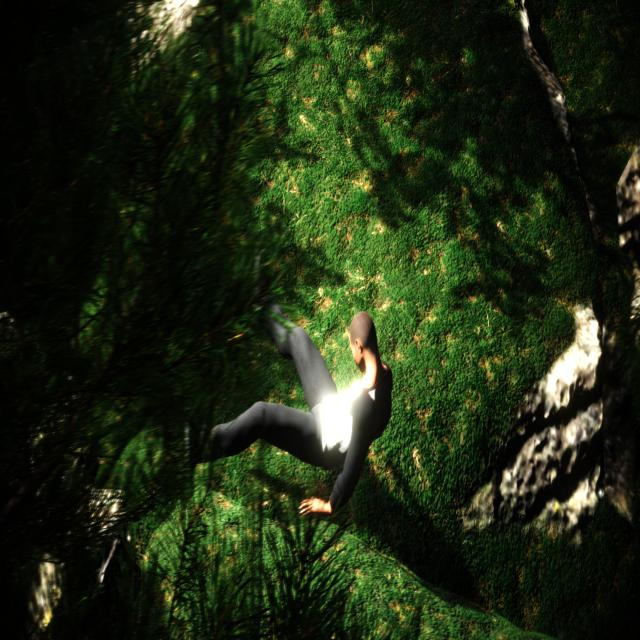Human: (173, 242, 397, 529)
